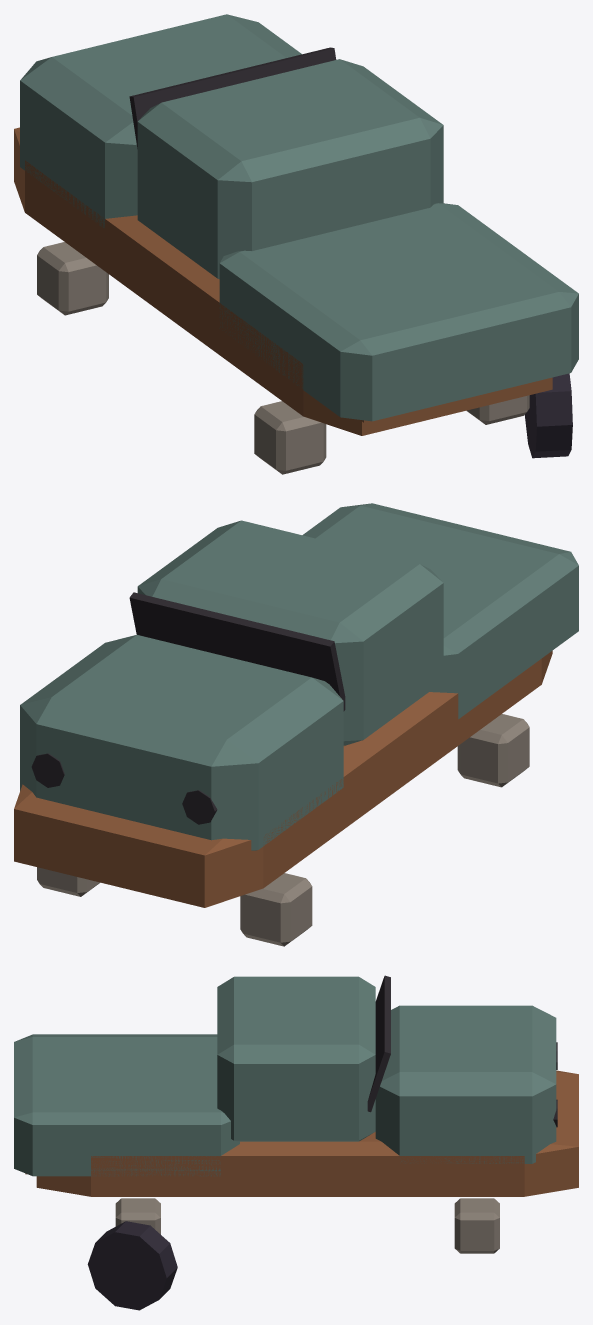
Rendered from derelict_pickup.glb.
3 renders of one model, top to bottom at view 1: azimuth 30°, elevation 25°; view 2: azimuth 150°, elevation 25°; view 3: azimuth 270°, elevation 25°, orthographic. The views are drawn at different scales.
Parts seen in each view (by area): view 1: derelict_pickup; view 2: derelict_pickup; view 3: derelict_pickup.
Boxes of the visible parts, x1=… form: derelict_pickup: x1=14, y1=14, x2=578, y2=474; derelict_pickup: x1=14, y1=503, x2=578, y2=946; derelict_pickup: x1=14, y1=975, x2=578, y2=1310.
Size of the model in its own units: 2.49 by 2.29 by 5.
